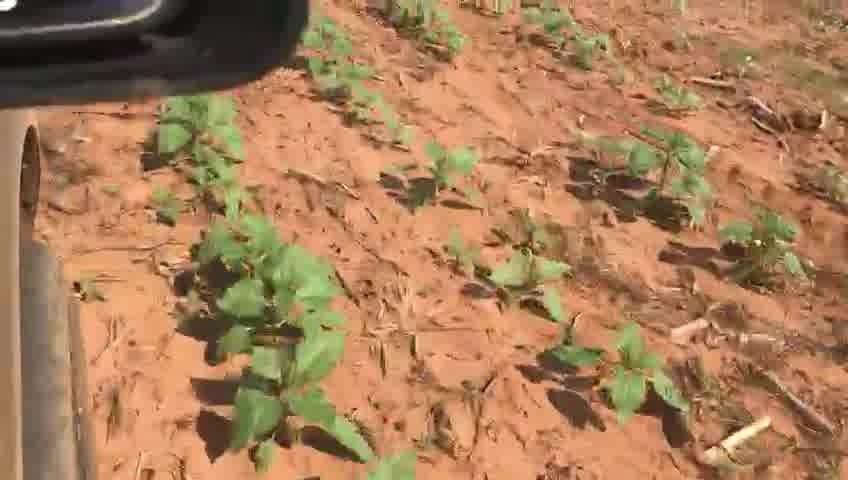sunflower: (197, 328, 347, 467), (189, 216, 341, 346), (541, 326, 693, 423), (590, 120, 710, 225), (474, 210, 572, 325), (153, 104, 246, 219), (716, 202, 807, 291), (379, 145, 481, 208), (334, 80, 385, 127), (372, 110, 412, 148)
